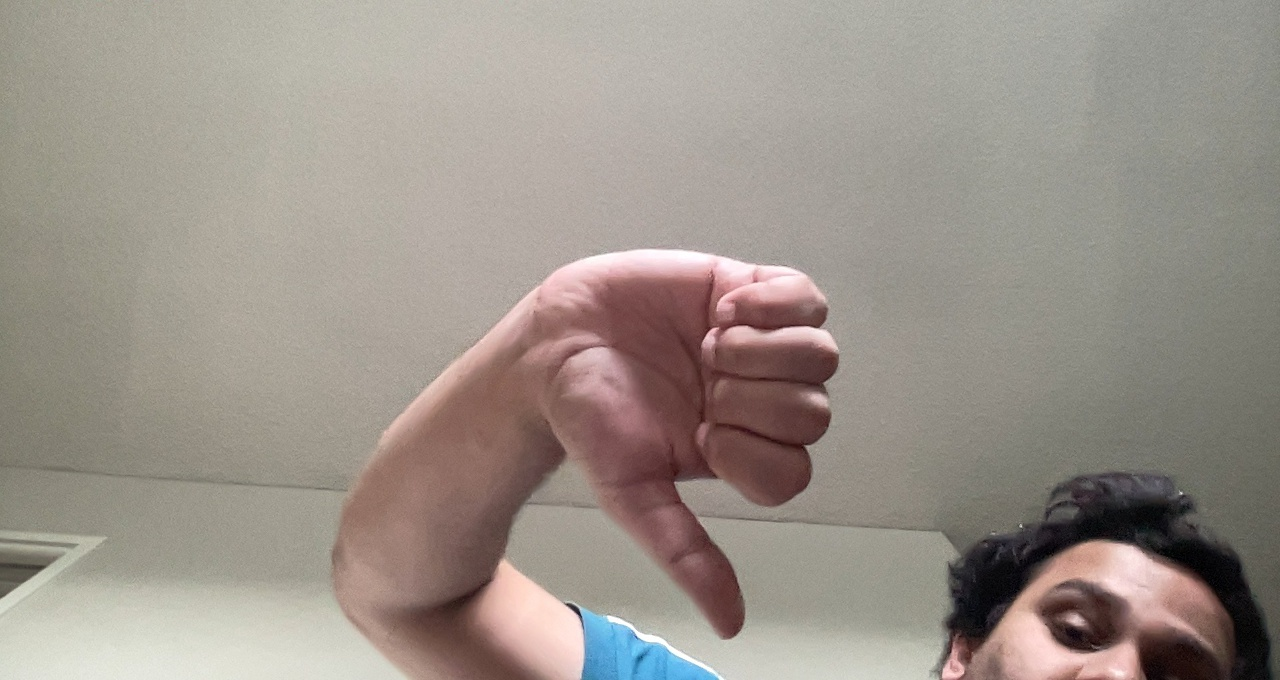thumbsdown: (524, 224, 850, 642)
